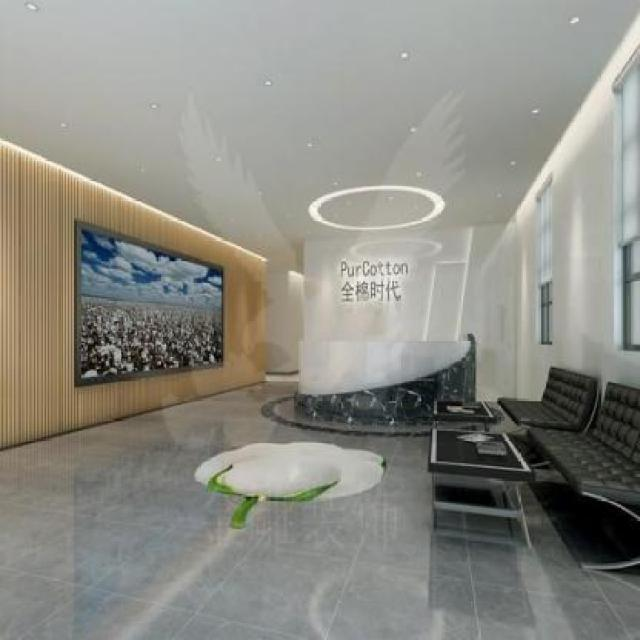frontdesk: (286, 317, 494, 438)
